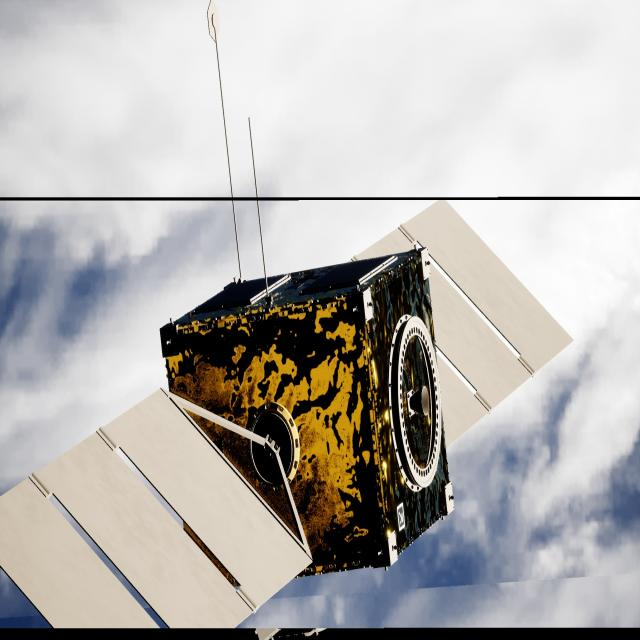medium_debris: (0, 204, 572, 629)
